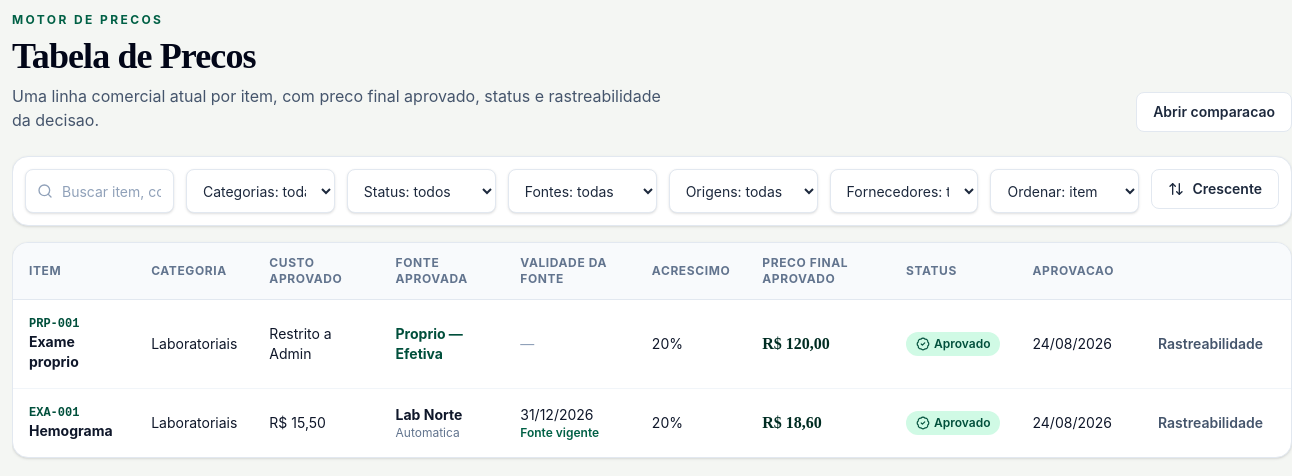
Test: PriceListPage › filtra tabela por origem comercial propria
This screenshot has width=1292, height=476.
Select "Precos proprios" in the 4th dropdown named "Filtrar tabela por origem comercial": (743, 191) [669,169,818,213]
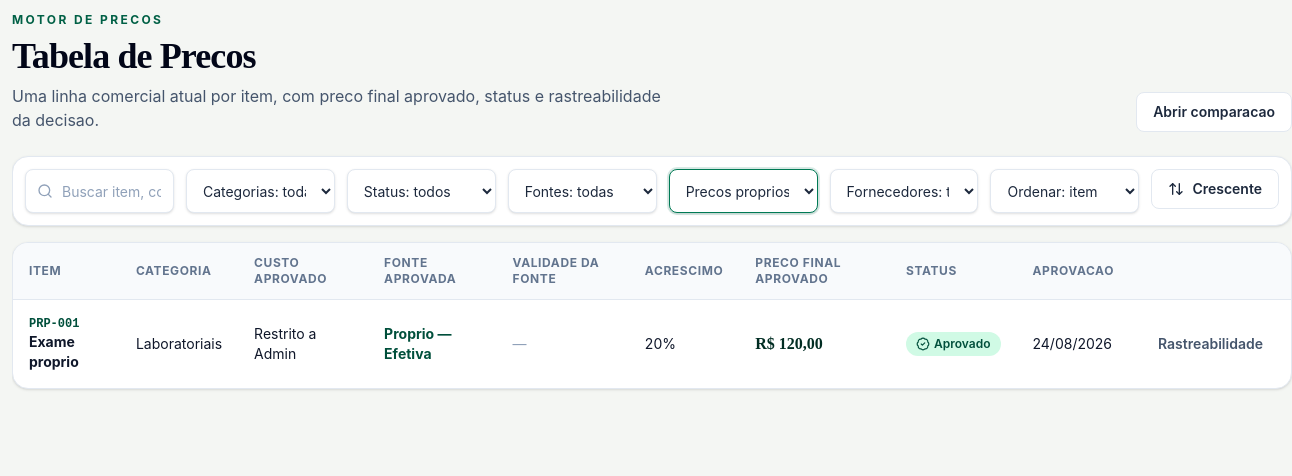
Expected: the text "Exame proprio" is shown, [29,333,79,370]
Result: the text "Hemograma" is gone
